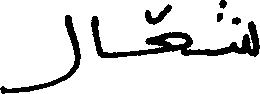X: (0, 10, 80, 93), (146, 0, 192, 60), (232, 12, 259, 61), (92, 11, 102, 62)
